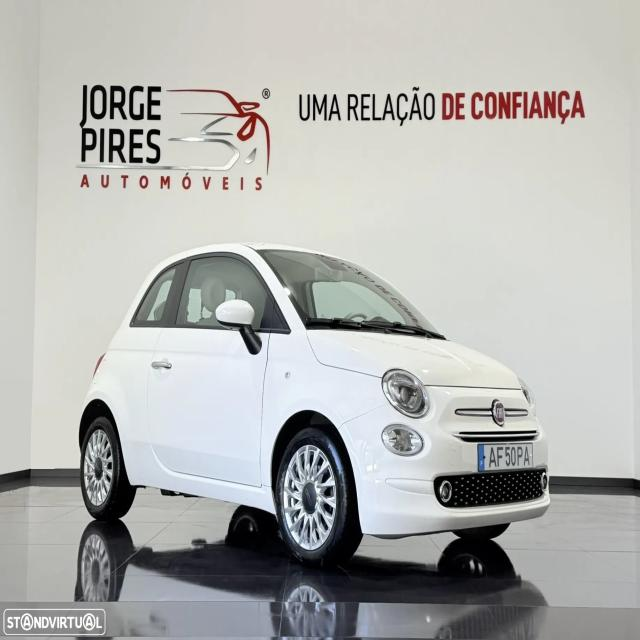portuguese-license-plates: (478, 443, 533, 471)
